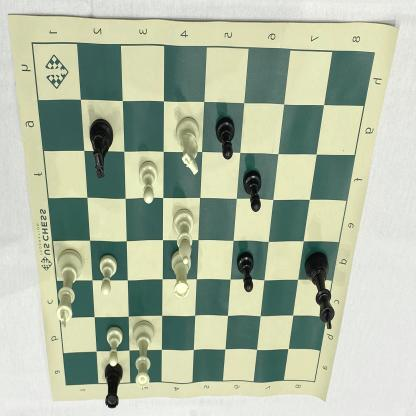black-king: (302, 248, 339, 334)
black-knight: (88, 115, 116, 180)
black-pawn: (241, 166, 264, 218), (214, 114, 237, 164), (235, 246, 256, 294)
black-rook: (100, 361, 124, 414)
white-bishop: (172, 208, 198, 266)
white-king: (53, 246, 85, 331)
white-knight: (174, 113, 202, 178)
white-pawn: (135, 158, 160, 208), (96, 252, 119, 300), (103, 324, 127, 369)
white-queen: (132, 316, 158, 391)
white-rook: (169, 247, 194, 301)
